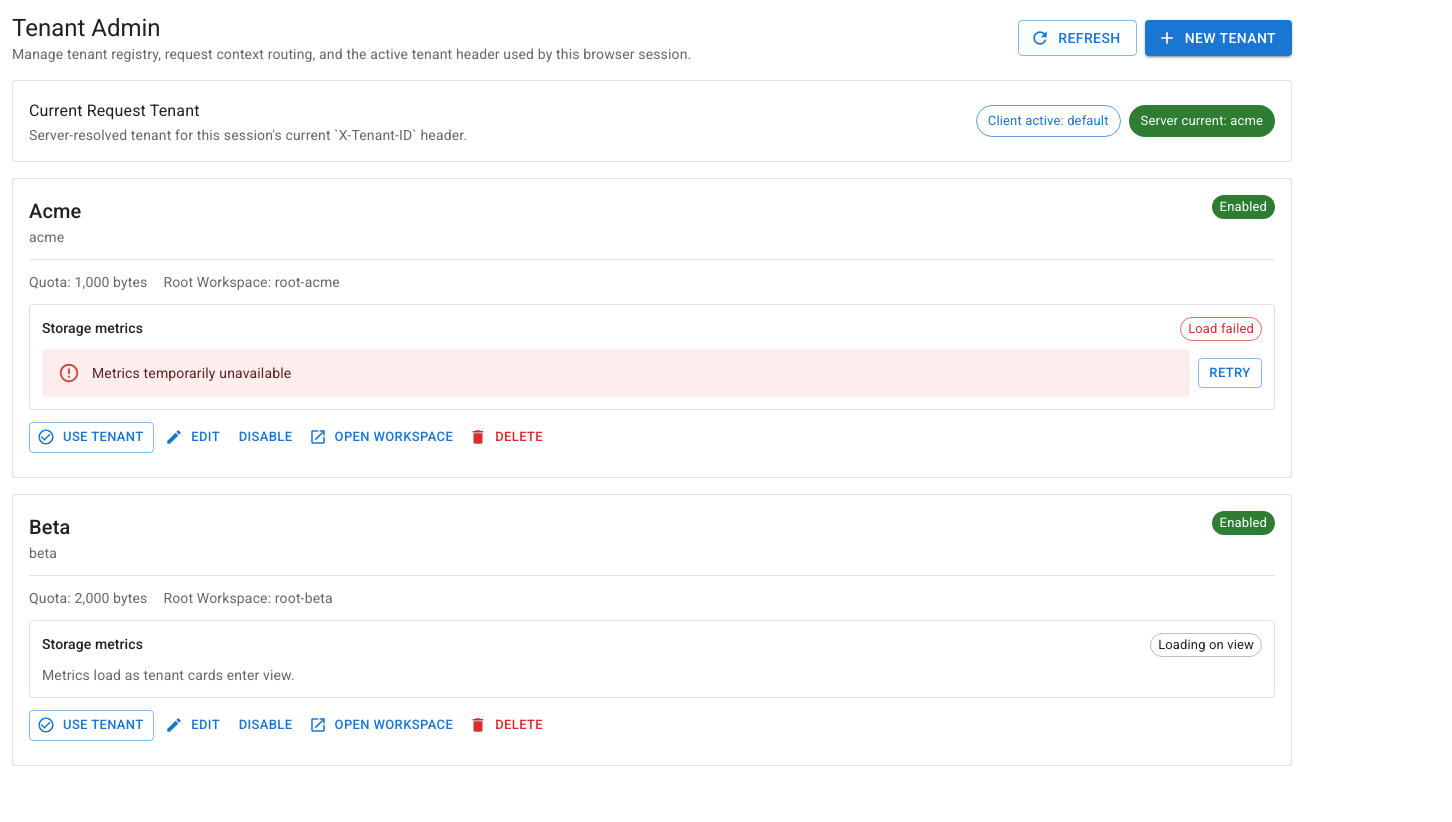
Scenario: shows a retry action when tenant metrics loading fails and reloads successfully
expect the heading "Acme" is shown: met, box [29,195,81,227]
expect the text "Metrics temporarily unavailable" is shown: met, box [92,365,291,381]
What coordinates should you click on to do the following:
click the button "Retry"
I would click on:
 (1230, 373)
Its box is [1198,358,1262,388].
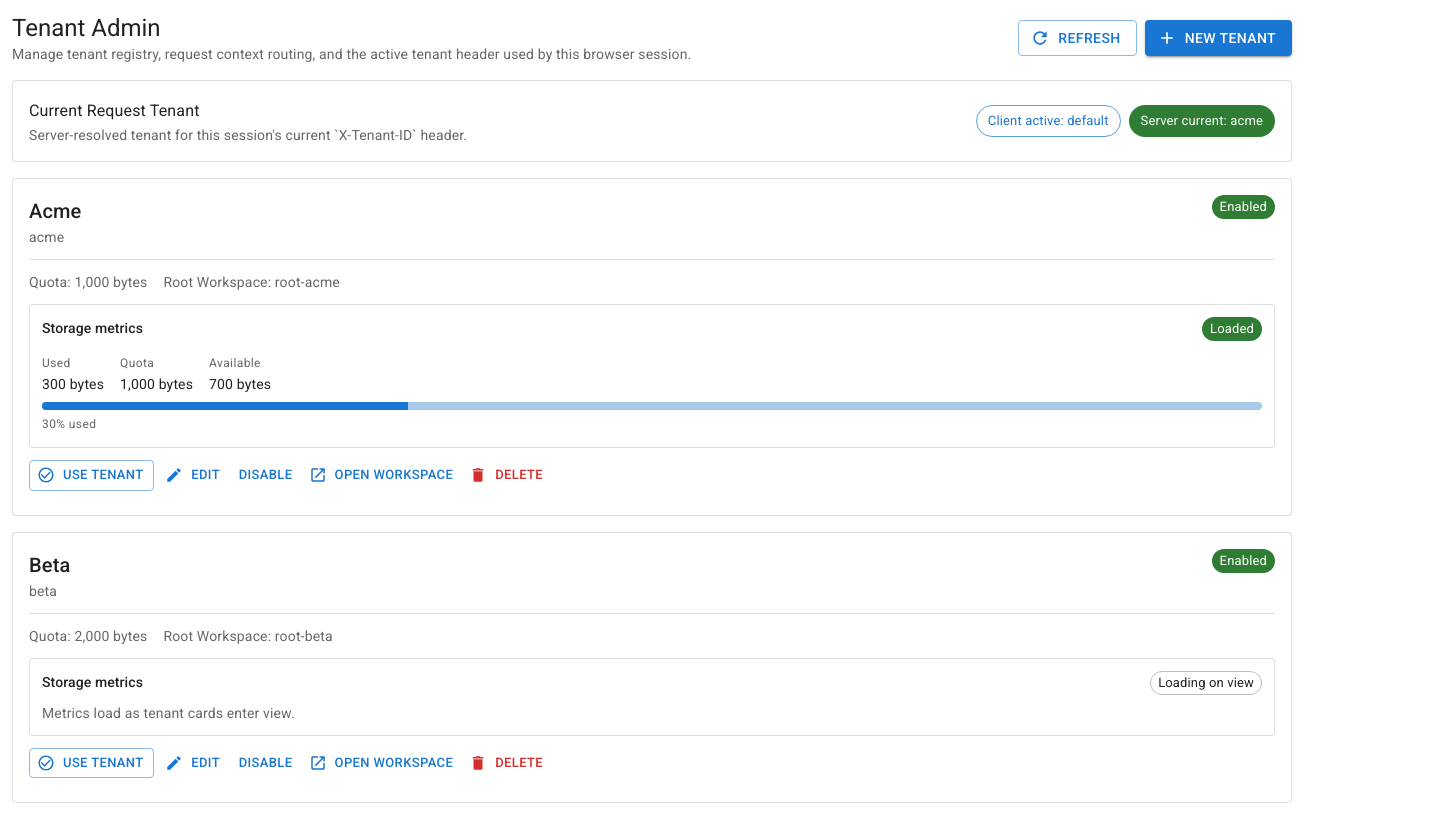
expect the text "300 bytes" is shown: met, box [42,374,104,394]
